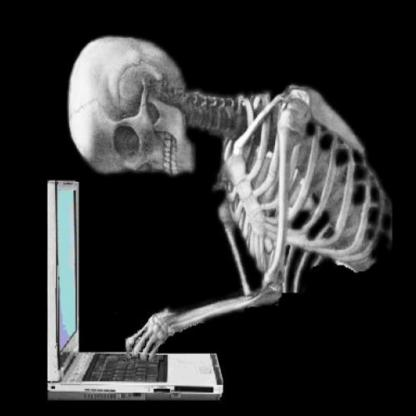board: (48, 180, 224, 400)
